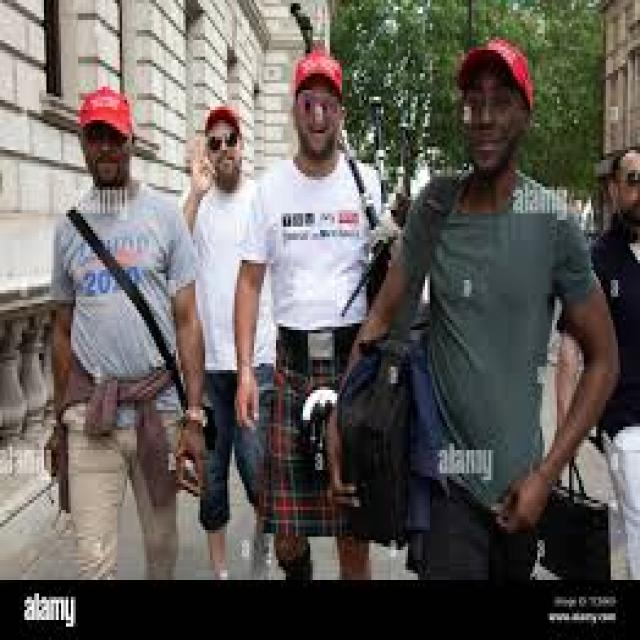cap: (444, 23, 554, 144), (61, 67, 152, 183), (286, 40, 354, 137), (183, 97, 249, 173)
